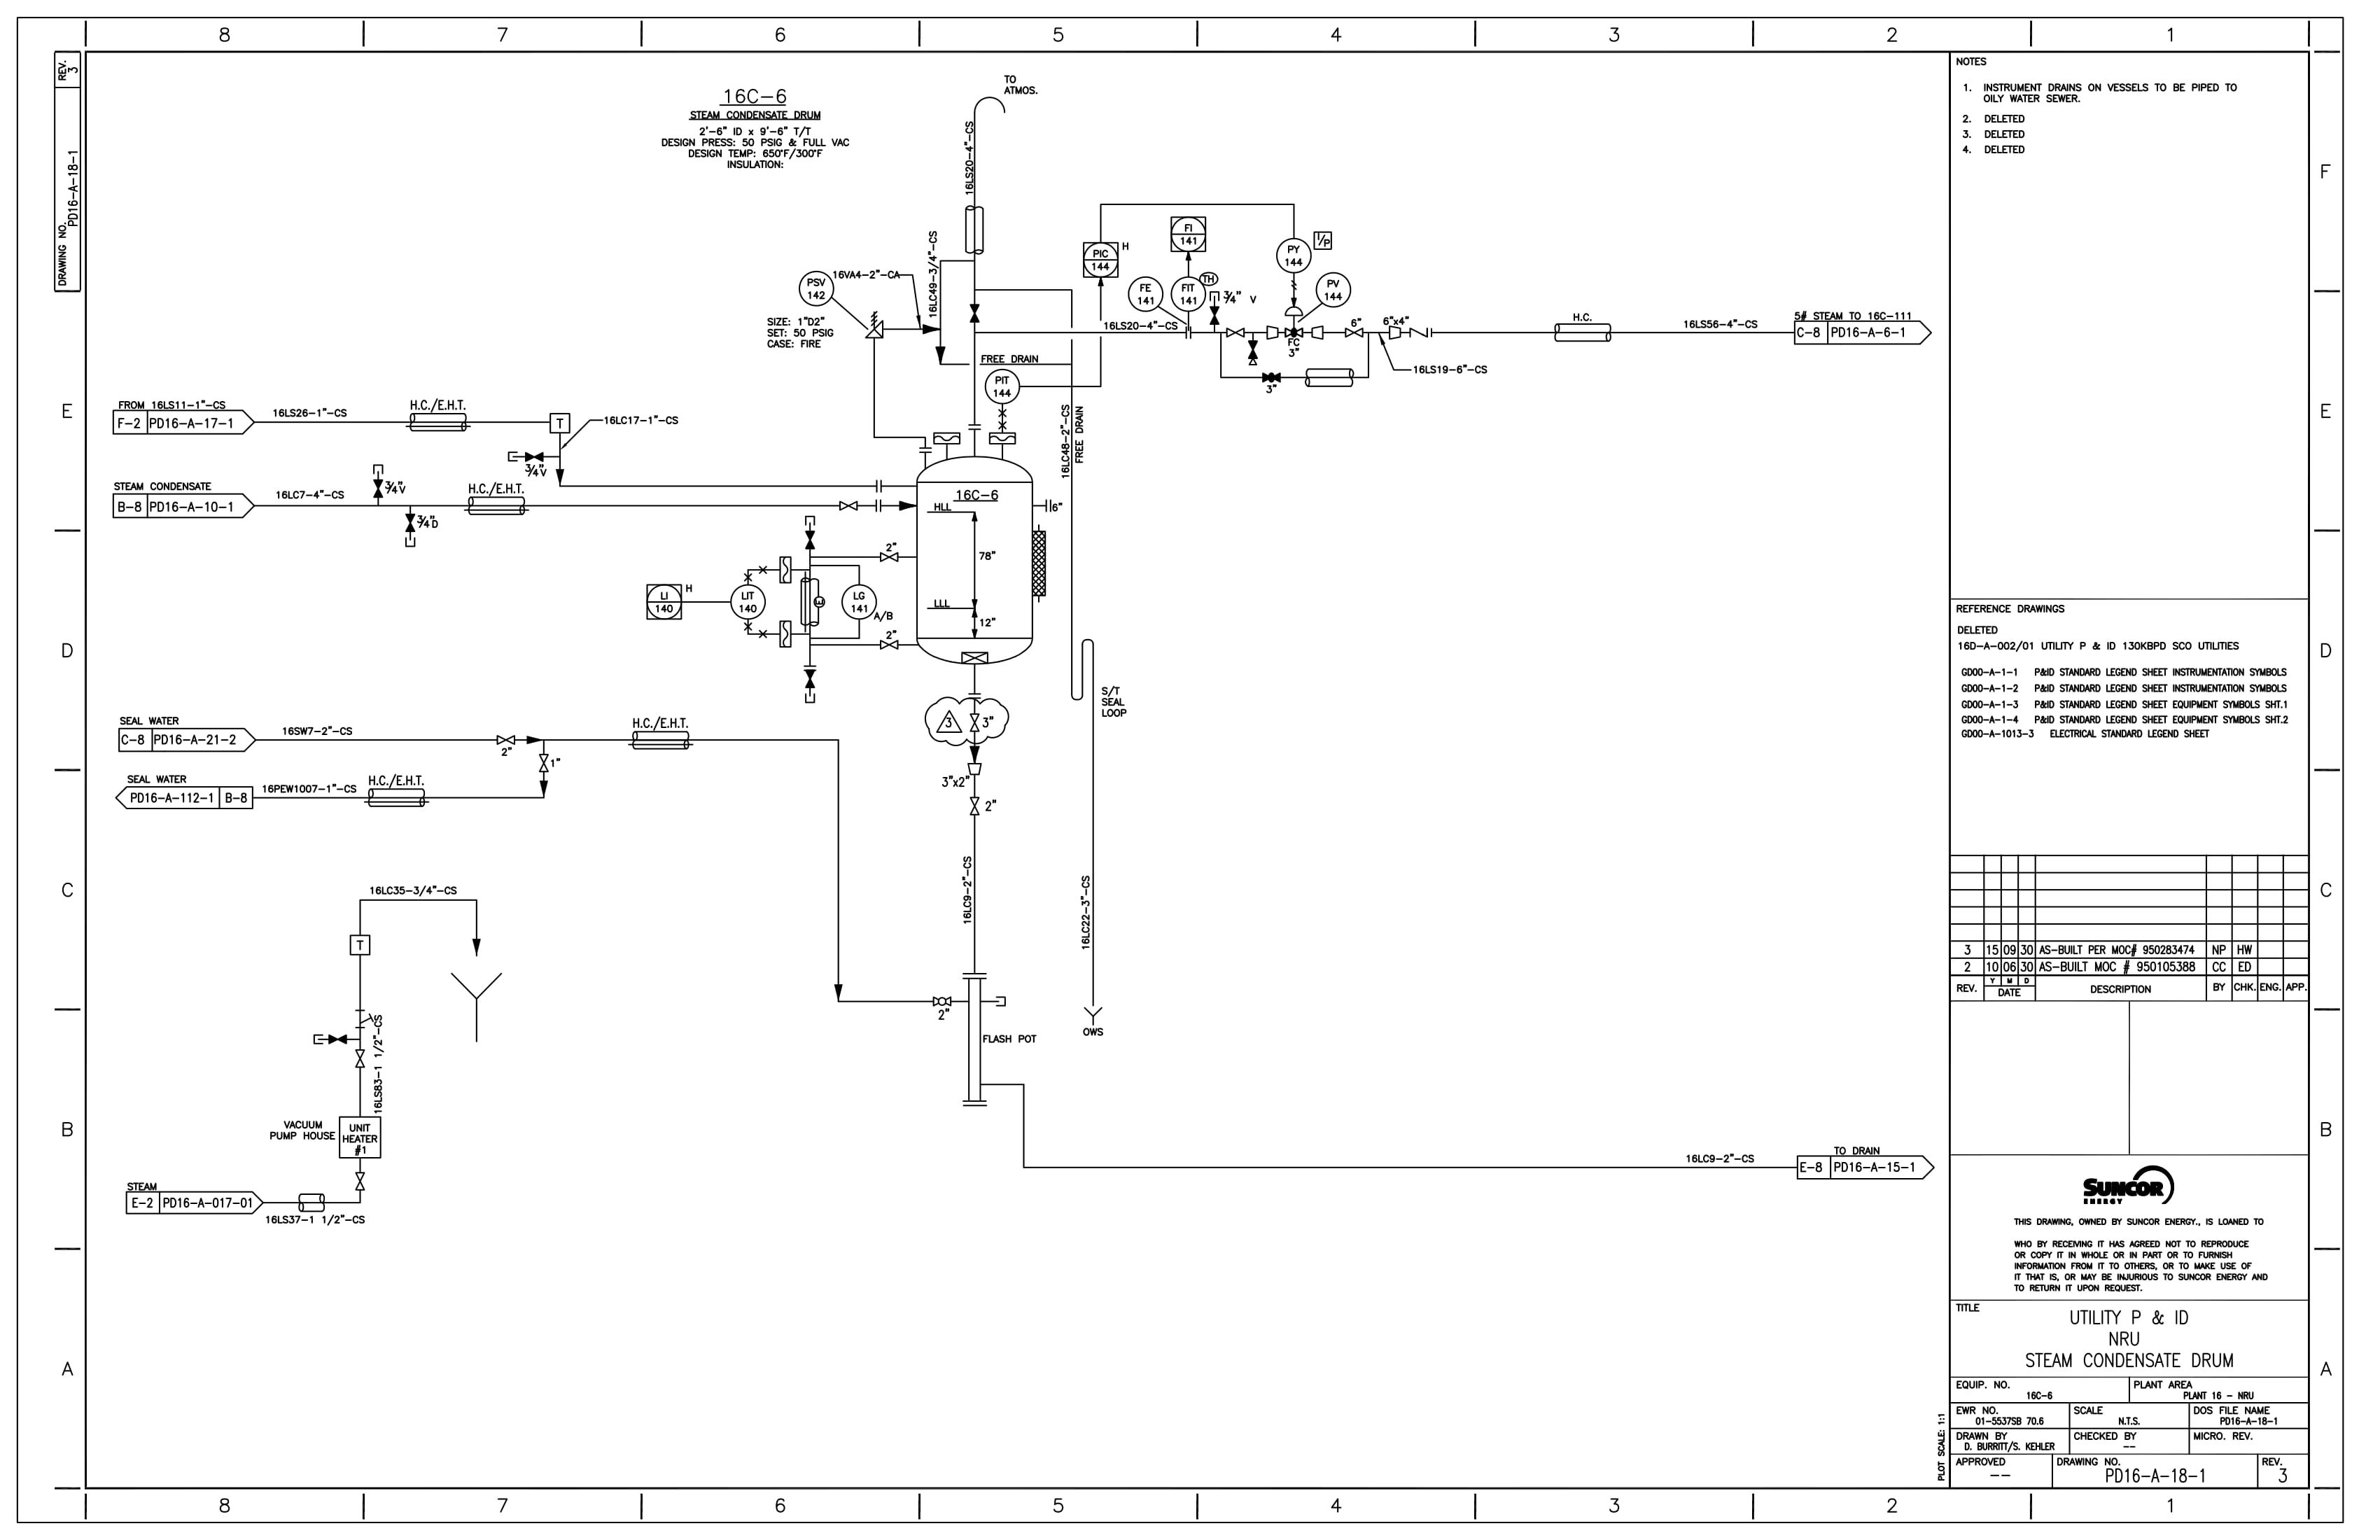Inline Instrument: (796, 265, 841, 314), (834, 581, 881, 624), (1313, 272, 1360, 316), (725, 584, 775, 621), (1126, 274, 1169, 314), (1275, 236, 1317, 276)
